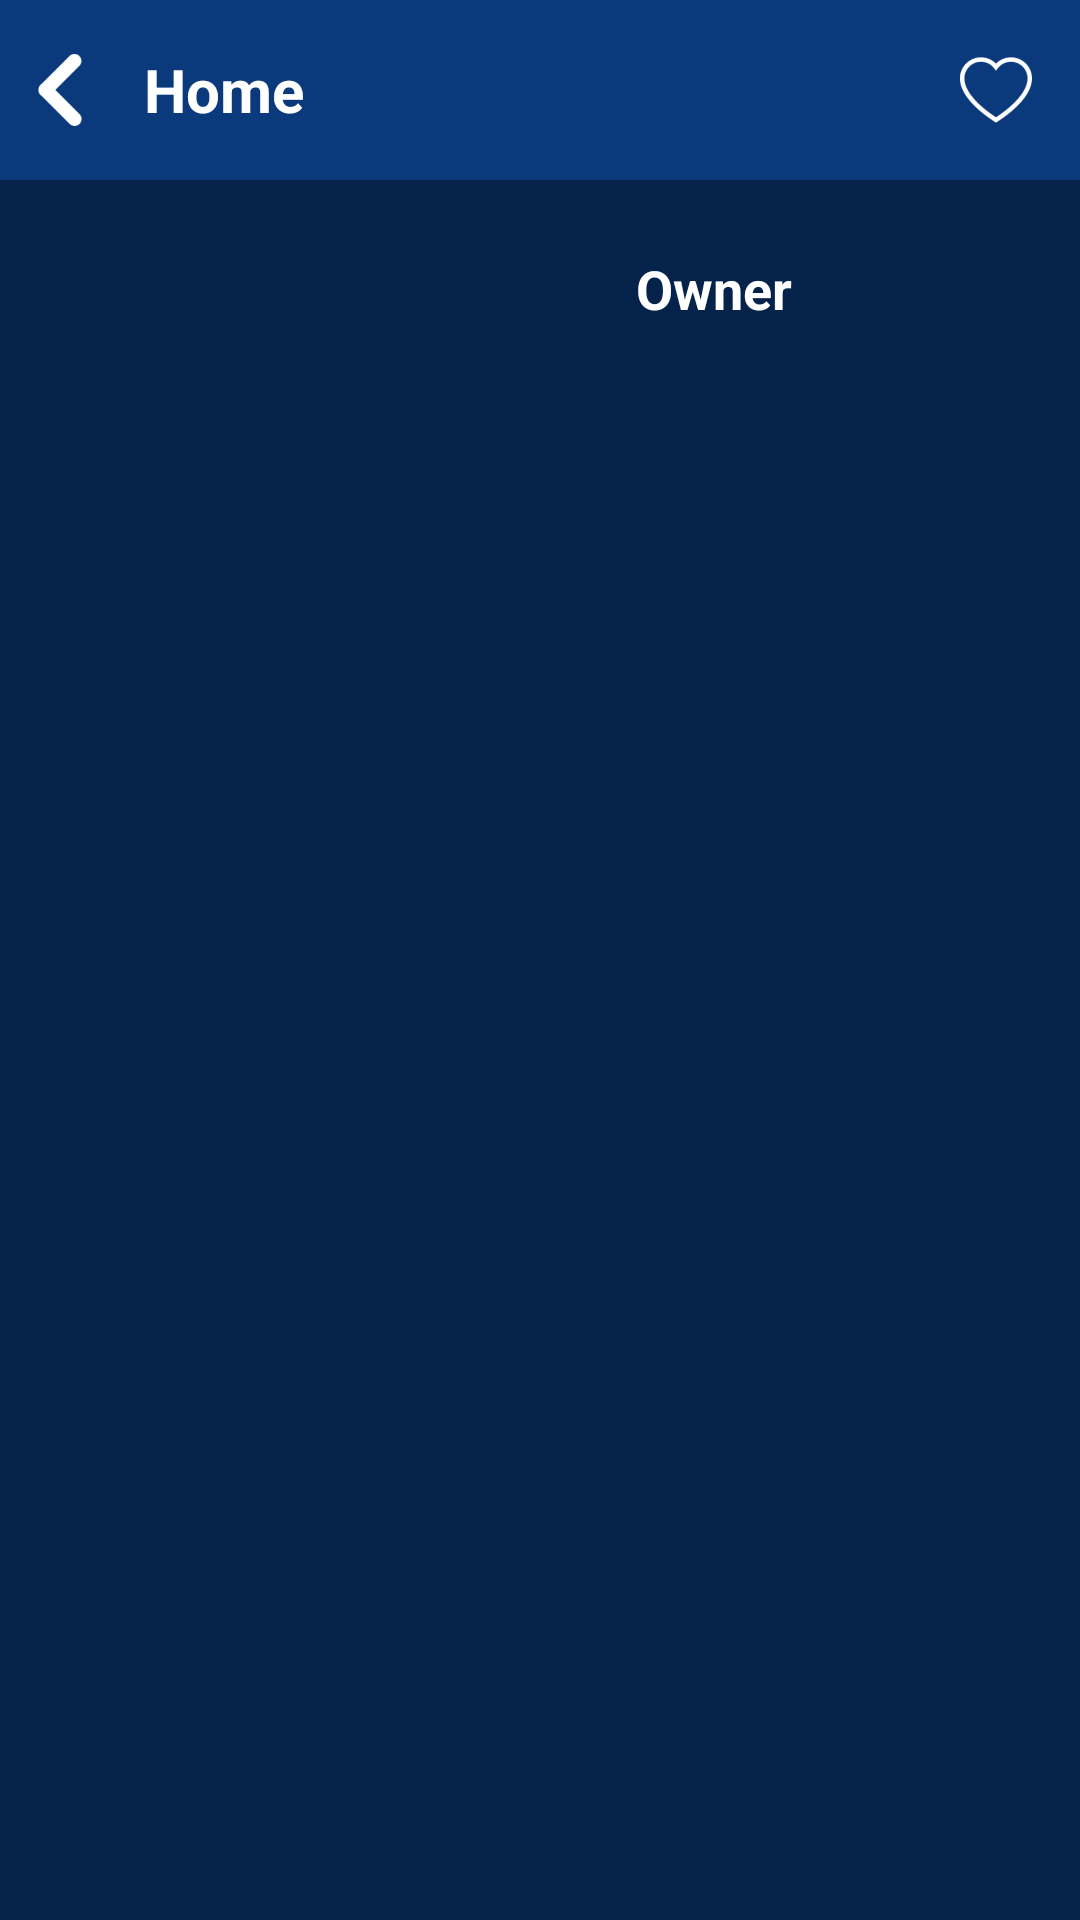

Where to tap for icons on this 1080w x 1920h app screen, as point (x, y):
back: point (60, 90)
